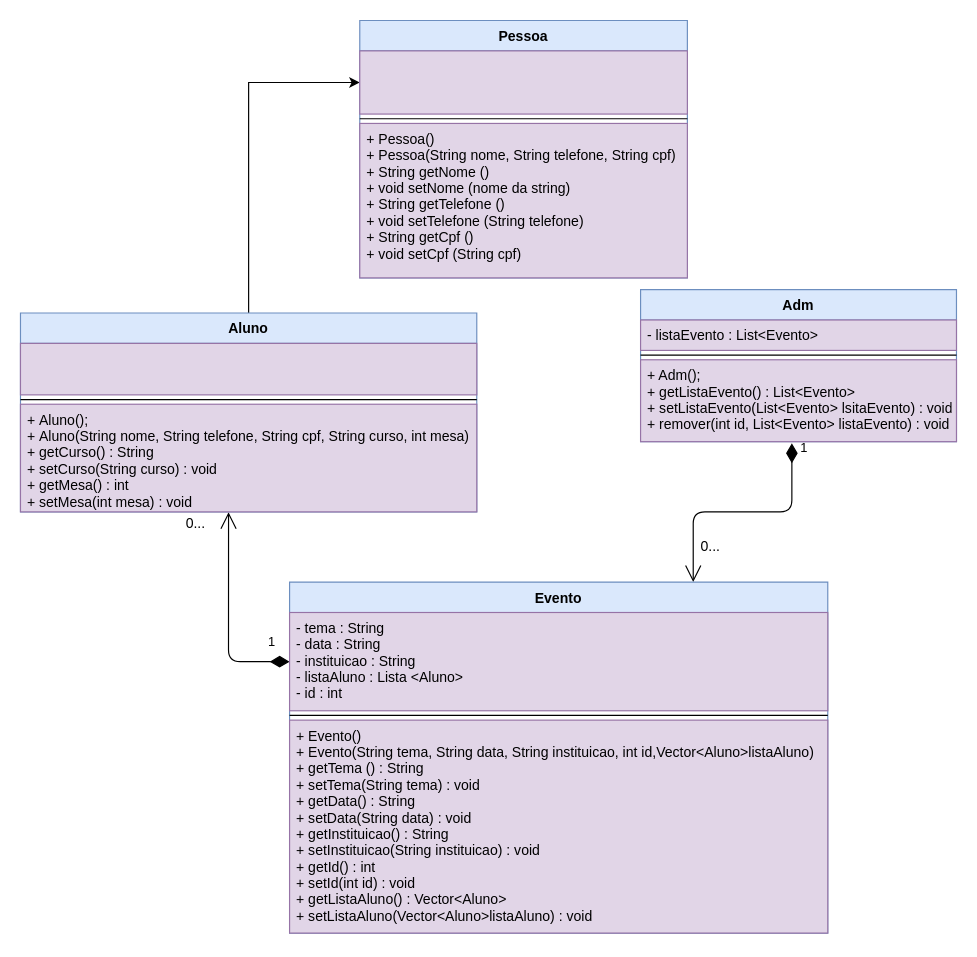
Some shapes in this 977 by 957 pixel diagram are drawn without their labels. Each missing label, with the box of its shape:
- nome: String; - telefone: String - cpf: String: (359, 50, 687, 114)
curso : String mesa : int: (19, 342, 477, 395)
